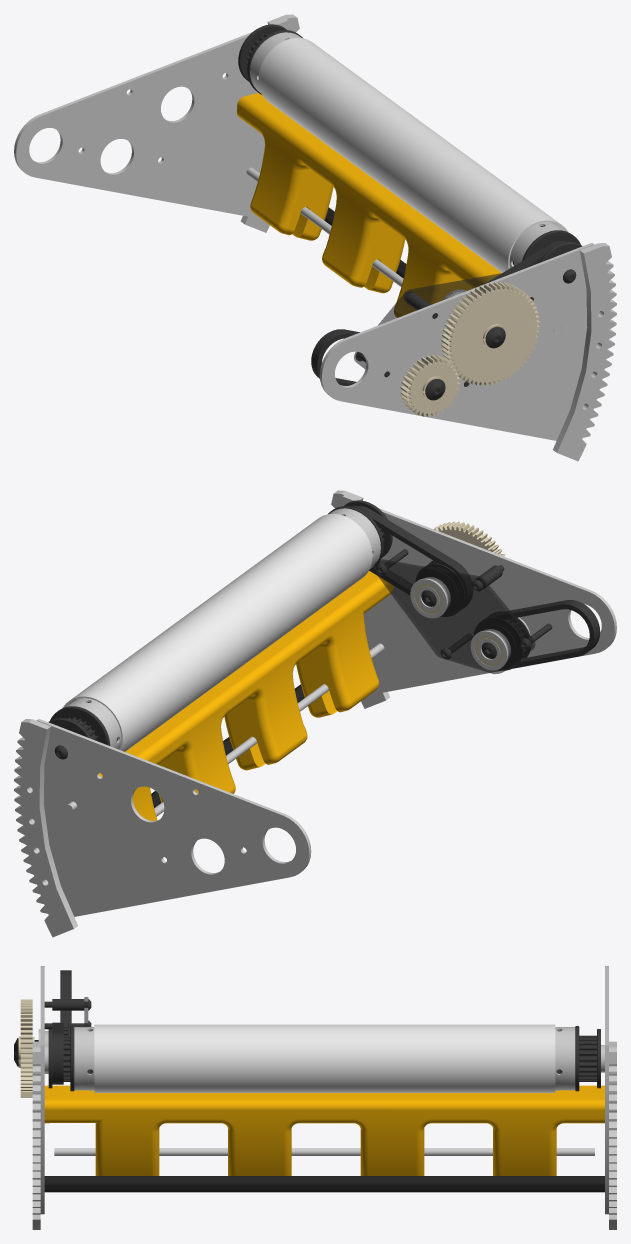
3 renders of one model, top to bottom at view 1: azimuth 30°, elevation 25°; view 2: azimuth 150°, elevation 25°; view 3: azimuth 270°, elevation 25°, orthographic. The views are drawn at different scales.
Visible parts, largest first — view 1: F6009 - Shooter Plate (×2), Silicone, F6402 - top hood, 60t Aluminum Spur Gear (20 DP, 1/2" Hex Bore), F6010 - Pivot Plate, 34t Aluminum Spur Gear (20 DP, 1/2" Hex Bore), 24t Custom HTD 5mm Pulley (0.563" Wide, *0.516" Hex Bore) (×2), F6018 - Shooter Doubler Plate, F6102 - deadaxle tube, 50t 5mm Belt, F6404 - 1/4"20 all thread 16.75"; view 2: F6009 - Shooter Plate (×2), Silicone, F6402 - top hood, F6018 - Shooter Doubler Plate, F6010 - Pivot Plate, 24t Aluminum Pulley (HTD 5mm, 9mm Wide, 1/2" Hex Bore) (×2), 1/2" Rounded Hex (13.75mm) ID Bearing (1.125" OD, 0.313" WD, (×2), 24t Custom HTD 5mm Pulley (0.563" Wide, *0.516" Hex Bore) (×2), 55t 5mm Belt, 50t 5mm Belt, F6102 - deadaxle tube, 60t Aluminum Spur Gear (20 DP, 1/2" Hex Bore) (+1 smaller); view 3: Silicone, F6402 - top hood, 1/2" ThunderHex (17.625 in), F6010 - Pivot Plate (×2), F6102 - deadaxle tube, 24t Custom HTD 5mm Pulley (0.563" Wide, *0.516" Hex Bore) (×2), F6404 - 1/4"20 all thread 16.75", F6009 - Shooter Plate (×2), 60t Aluminum Spur Gear (20 DP, 1/2" Hex Bore), 55t 5mm Belt, 50t 5mm Belt, #10 Aluminum Spacer (1" L, 3/8" OD).
Boxes of the visible parts, bbox=[...] form: F6009 - Shooter Plate (×2): bbox=[14, 19, 593, 440]; Silicone: bbox=[258, 37, 568, 272]; F6402 - top hood: bbox=[237, 93, 501, 317]; 60t Aluminum Spur Gear (20 DP, 1/2" Hex Bore): bbox=[441, 282, 540, 385]; F6010 - Pivot Plate: bbox=[553, 243, 616, 461]; 34t Aluminum Spur Gear (20 DP, 1/2" Hex Bore): bbox=[400, 355, 460, 417]; 24t Custom HTD 5mm Pulley (0.563" Wide, *0.516" Hex Bore) (×2): bbox=[238, 24, 582, 265]; F6018 - Shooter Doubler Plate: bbox=[354, 273, 501, 368]; F6102 - deadaxle tube: bbox=[250, 32, 565, 268]; 50t 5mm Belt: bbox=[311, 329, 359, 385]; F6404 - 1/4"20 all thread 16.75": bbox=[246, 167, 403, 286]; F6009 - Shooter Plate (×2): bbox=[37, 495, 616, 916]; Silicone: bbox=[62, 513, 372, 751]; F6402 - top hood: bbox=[99, 571, 393, 820]; F6018 - Shooter Doubler Plate: bbox=[373, 559, 535, 674]; F6010 - Pivot Plate: bbox=[14, 719, 77, 937]; 24t Aluminum Pulley (HTD 5mm, 9mm Wide, 1/2" Hex Bore) (×2): bbox=[415, 560, 530, 670]; 1/2" Rounded Hex (13.75mm) ID Bearing (1.125" OD, 0.313" WD, (×2): bbox=[410, 577, 510, 670]; 24t Custom HTD 5mm Pulley (0.563" Wide, *0.516" Hex Bore) (×2): bbox=[48, 500, 392, 745]; 55t 5mm Belt: bbox=[351, 505, 471, 609]; 50t 5mm Belt: bbox=[485, 600, 600, 668]; F6102 - deadaxle tube: bbox=[65, 508, 380, 749]; 60t Aluminum Spur Gear (20 DP, 1/2" Hex Bore): bbox=[433, 521, 504, 556]; Silicone: bbox=[94, 1024, 555, 1092]; F6402 - top hood: bbox=[44, 1085, 604, 1175]; 1/2" ThunderHex (17.625 in): bbox=[44, 1176, 604, 1192]; F6010 - Pivot Plate (×2): bbox=[32, 1041, 616, 1229]; F6102 - deadaxle tube: bbox=[74, 1027, 575, 1090]; 24t Custom HTD 5mm Pulley (0.563" Wide, *0.516" Hex Bore) (×2): bbox=[48, 1026, 600, 1091]; F6404 - 1/4"20 all thread 16.75": bbox=[54, 1148, 594, 1155]; F6009 - Shooter Plate (×2): bbox=[40, 966, 608, 1214]; 60t Aluminum Spur Gear (20 DP, 1/2" Hex Bore): bbox=[18, 999, 34, 1097]; 55t 5mm Belt: bbox=[52, 1022, 63, 1084]; 50t 5mm Belt: bbox=[60, 970, 71, 1035]; #10 Aluminum Spacer (1" L, 3/8" OD): bbox=[52, 999, 84, 1010].
Size of the model in its own units: 0.2476 by 0.1764 by 0.4816.
